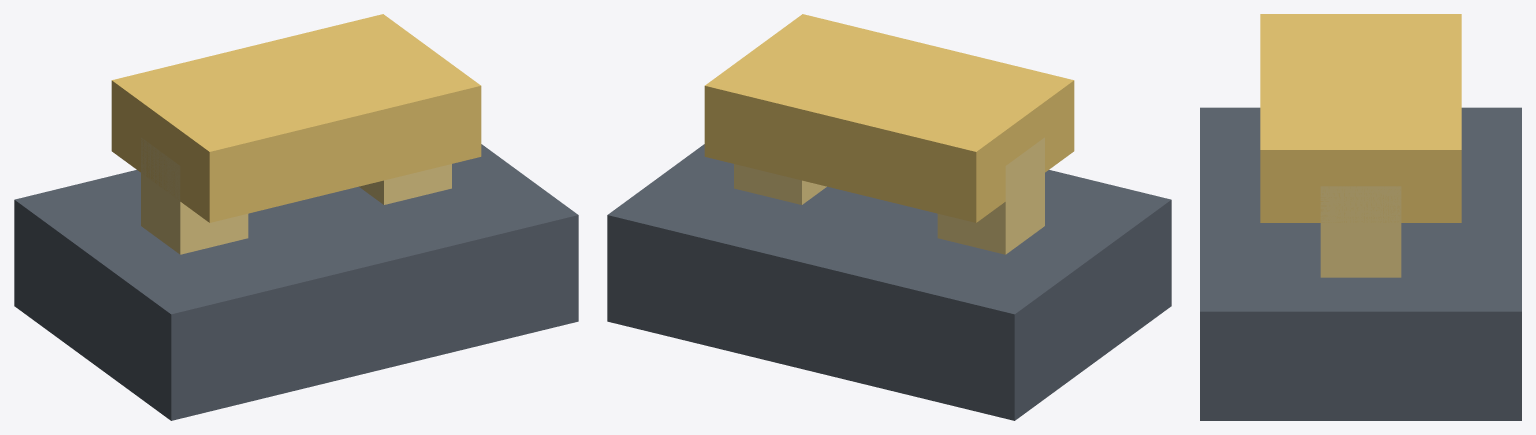
3 renders of one model, left to right at view 1: azimuth 30°, elevation 25°; view 2: azimuth 150°, elevation 25°; view 3: azimuth 270°, elevation 25°, orthographic. The views are drawn at different scales.
Visible parts, largest first — view 1: L122_connector_black__PSMAT__connector_black, L122_amber__PSMAT__amber, L122_gold__PSMAT__gold; view 2: L122_connector_black__PSMAT__connector_black, L122_amber__PSMAT__amber, L122_gold__PSMAT__gold; view 3: L122_connector_black__PSMAT__connector_black, L122_amber__PSMAT__amber, L122_gold__PSMAT__gold.
Part boxes in pixels (x1,y1,x2,y2): L122_connector_black__PSMAT__connector_black: (14,144,578,420); L122_amber__PSMAT__amber: (111,14,481,222); L122_gold__PSMAT__gold: (141,137,451,254); L122_connector_black__PSMAT__connector_black: (607,144,1171,420); L122_amber__PSMAT__amber: (704,14,1074,222); L122_gold__PSMAT__gold: (734,137,1044,254); L122_connector_black__PSMAT__connector_black: (1200,107,1521,420); L122_amber__PSMAT__amber: (1260,14,1461,222); L122_gold__PSMAT__gold: (1320,186,1401,277).
Bounding box in the file's own units: 0.012 × 0.0065 × 0.008.
